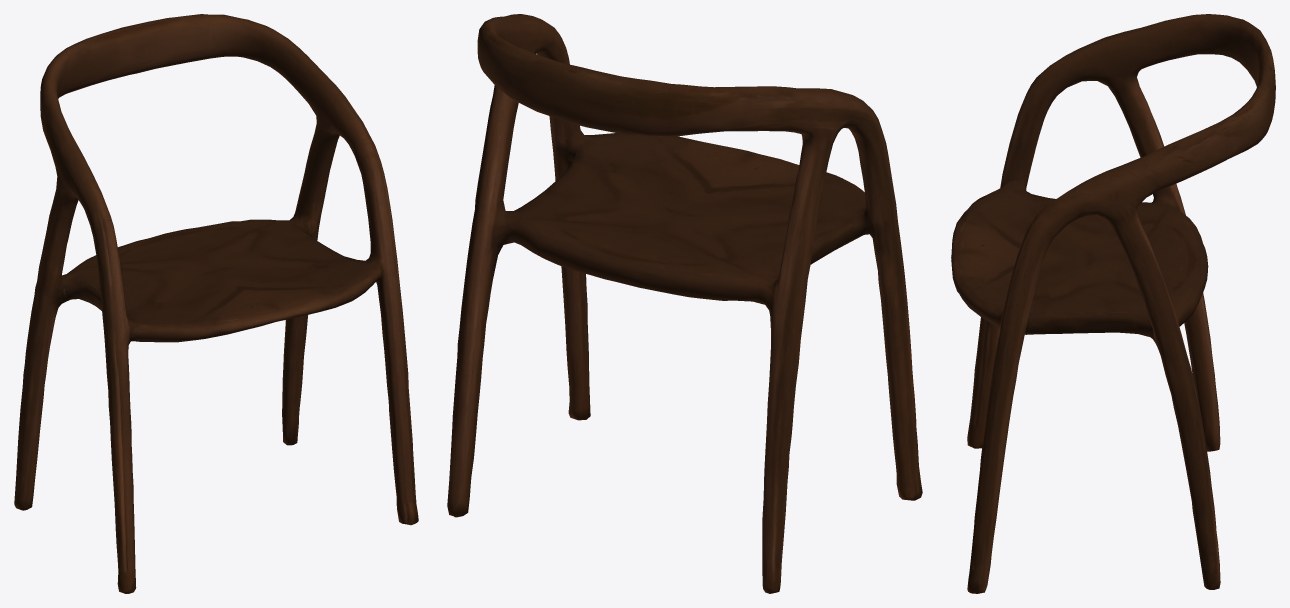
3 renders of one model, left to right at view 1: azimuth 30°, elevation 25°; view 2: azimuth 150°, elevation 25°; view 3: azimuth 270°, elevation 25°, orthographic. The views are drawn at different scales.
Visible parts, largest first — view 1: Mesh_0; view 2: Mesh_0; view 3: Mesh_0.
Part boxes in pixels (box(x1,y1,x2,y2)): Mesh_0: box(14, 14, 418, 593); Mesh_0: box(447, 14, 922, 593); Mesh_0: box(951, 14, 1275, 593).
Bounding box in the file's own units: 1.38 × 1.91 × 1.23.
Materials: 1 (1 with a texture image).
